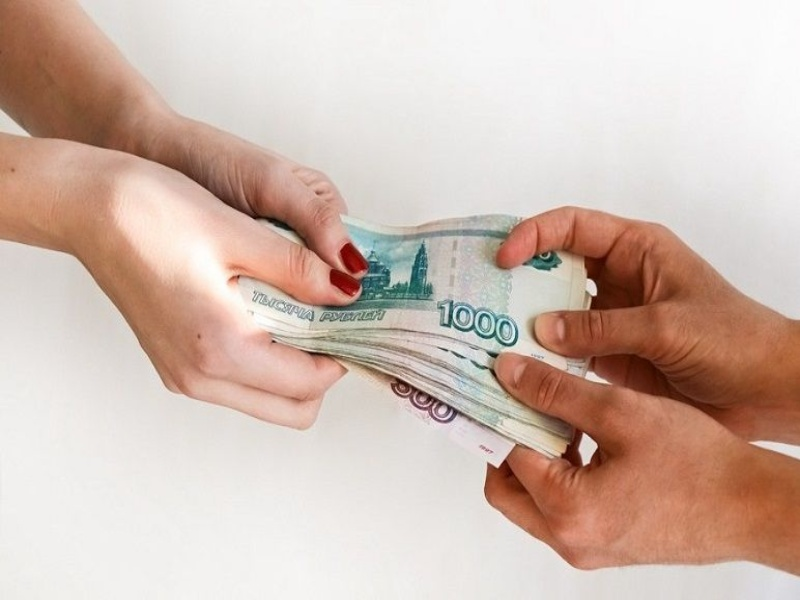cash: (235, 203, 594, 462)
